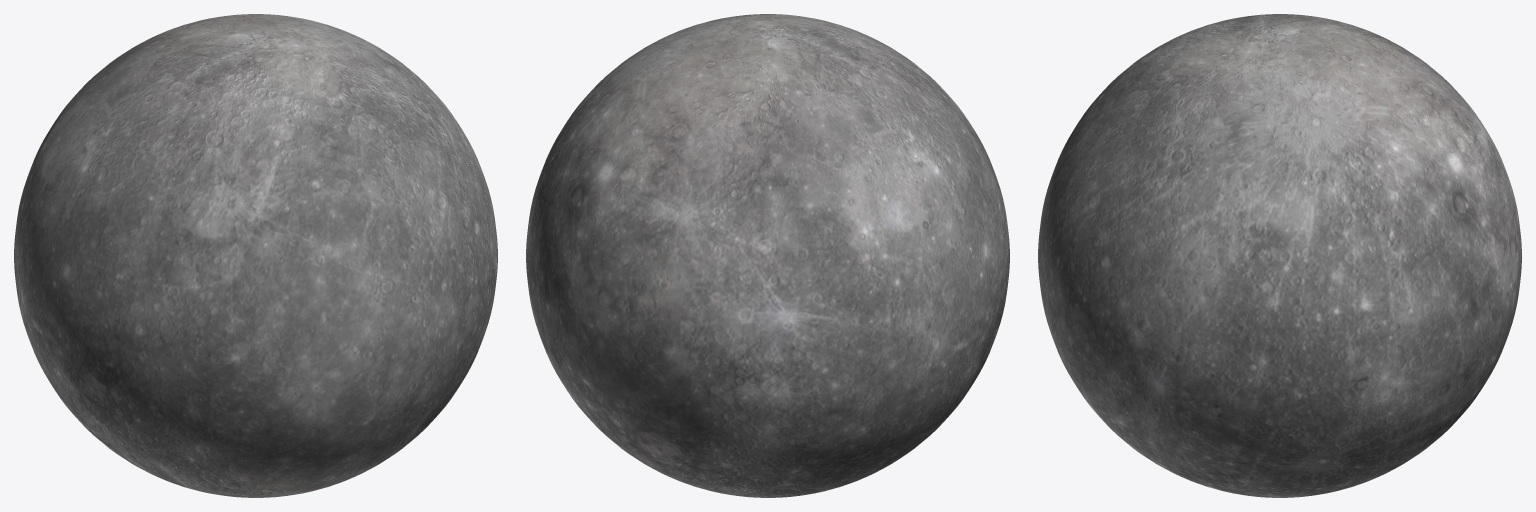
The model's file is sm_mercury.glb.
3 renders of one model, left to right at view 1: azimuth 30°, elevation 25°; view 2: azimuth 150°, elevation 25°; view 3: azimuth 270°, elevation 25°, orthographic.
Parts seen in each view (by area): view 1: atmosphere; view 2: atmosphere; view 3: atmosphere.
Boxes of the visible parts, x1,y1,x2,y2 form: atmosphere: [14, 14, 497, 497]; atmosphere: [526, 14, 1009, 497]; atmosphere: [1038, 14, 1521, 497].
Bounding box in the file's own units: 26.73 × 26.74 × 26.73.
Materials: 2 (1 with a texture image).
